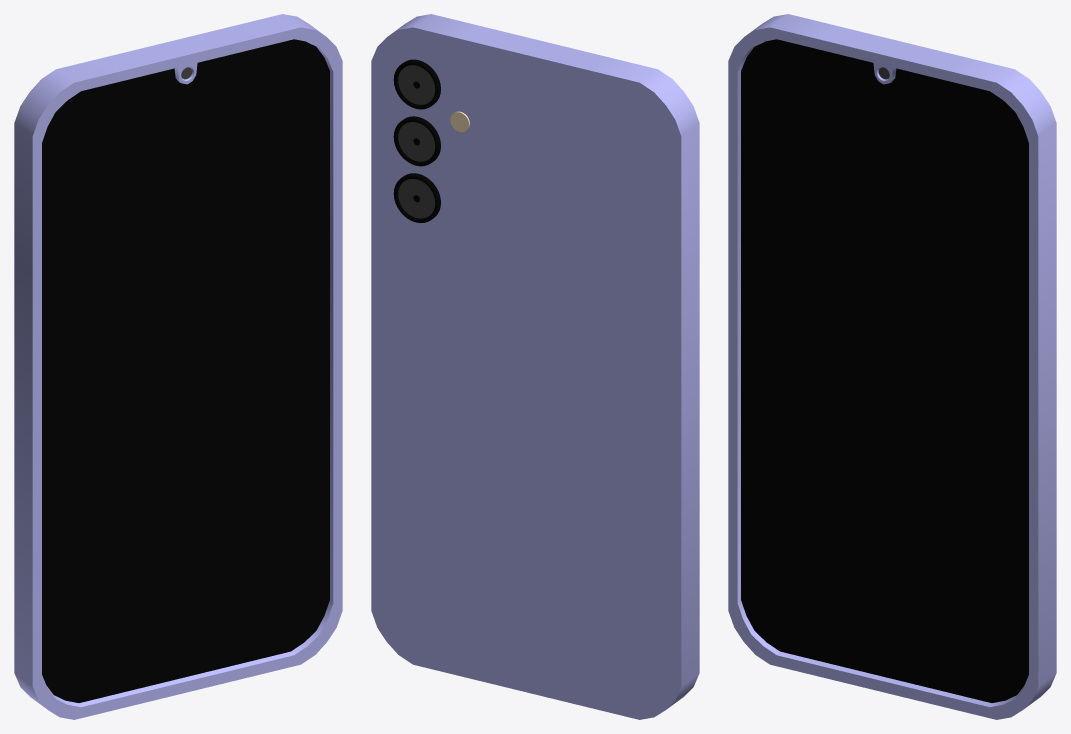
Rendered from Reject8.fbx.
3 renders of one model, left to right at view 1: azimuth 30°, elevation 25°; view 2: azimuth 150°, elevation 25°; view 3: azimuth 330°, elevation 25°, orthographic.
Parts seen in each view (by area): view 1: reject.007; view 2: reject.007; view 3: reject.007.
Boxes of the visible parts, x1=… form: reject.007: x1=14, y1=14, x2=342, y2=719; reject.007: x1=371, y1=14, x2=699, y2=719; reject.007: x1=728, y1=14, x2=1056, y2=719.
Bounding box in the file's own units: 1.11 × 2.18 × 0.1292.
